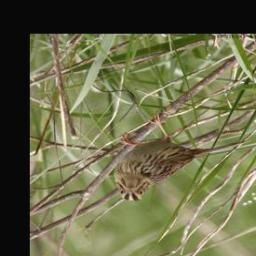Sparrow: (110, 111, 249, 202)
